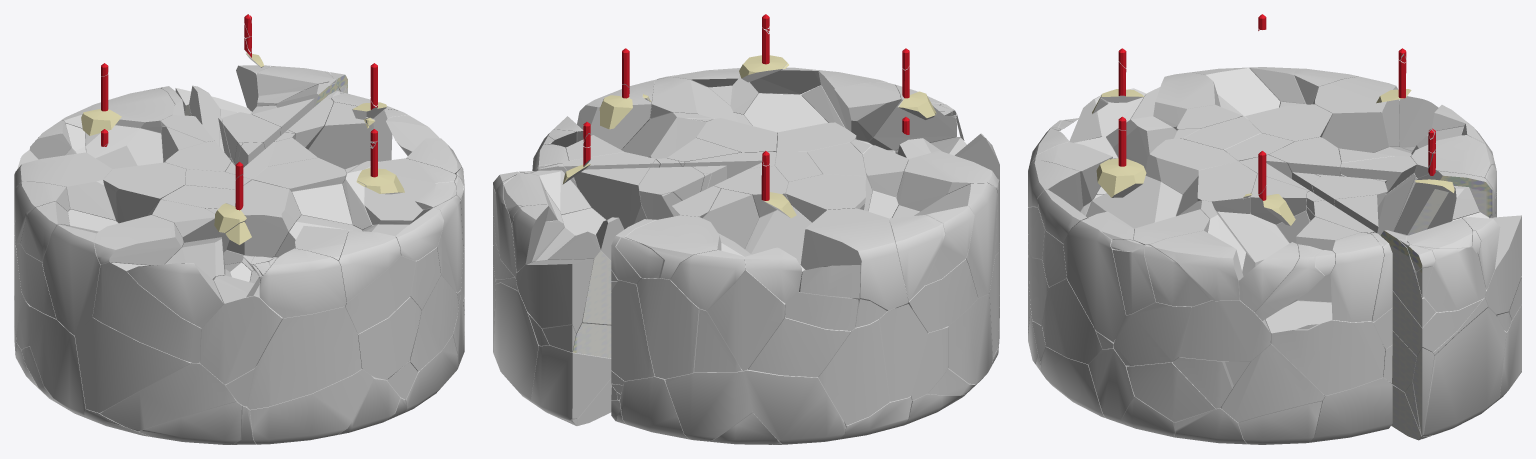
File: Cake.fbx
3 views of the same model, side by side, from view 1: azimuth 30°, elevation 25°; view 2: azimuth 150°, elevation 25°; view 3: azimuth 270°, elevation 25° (orthographic). The views are drawn at different scales.
Parts seen in each view (by area): view 1: Cylinder.001_cell.046, Cylinder.001_cell.245, Cylinder.001_cell.033, Cylinder.001_cell.086, Cylinder.001_cell.156, Cylinder.001_cell.232, Cylinder.001_cell.060, Cylinder.001_cell.082, Cylinder.001_cell.032, Cylinder.001_cell.145, Cylinder.001_cell.188, Cylinder.001_cell.048 (+59 smaller); view 2: Cylinder.001_cell.032, Cylinder.001_cell.268, Cylinder.001_cell.084, Cylinder.001_cell.138, Cylinder.001_cell.005, Cylinder.001_cell.059, Cylinder.001_cell.067, Cylinder.001_cell.185, Cylinder.001_cell.279, Cylinder.001_cell.024, Cylinder.001_cell.258, Cylinder.001_cell.232 (+67 smaller); view 3: Cylinder.001_cell.147, Cylinder.001_cell.024, Cylinder.001_cell.032, Cylinder.001_cell.169, Cylinder.001_cell.118, Cylinder.001_cell.019, Cylinder.001_cell.121, Cylinder.001_cell.128, Cylinder.001_cell.008, Cylinder.001_cell.085, Cylinder.001_cell.214, Cylinder.001_cell.049 (+65 smaller).
Part boxes in pixels (x1,y1,x2,y2): Cylinder.001_cell.046: (247,306,361,409); Cylinder.001_cell.245: (75,317,192,412); Cylinder.001_cell.033: (92,262,201,362); Cylinder.001_cell.086: (199,275,282,384); Cylinder.001_cell.156: (250,369,373,444); Cylinder.001_cell.232: (42,224,100,335); Cylinder.001_cell.060: (100,362,236,431); Cylinder.001_cell.082: (259,248,346,318); Cylinder.001_cell.032: (14,152,117,244); Cylinder.001_cell.145: (30,306,85,415); Cylinder.001_cell.188: (127,263,223,327); Cylinder.001_cell.048: (226,180,301,257); Cylinder.001_cell.032: (800,208,908,310); Cylinder.001_cell.268: (742,369,845,444); Cylinder.001_cell.084: (818,308,894,425); Cylinder.001_cell.138: (637,278,699,378); Cylinder.001_cell.005: (665,369,752,441); Cylinder.001_cell.059: (706,258,785,370); Cylinder.001_cell.067: (531,345,611,421); Cylinder.001_cell.185: (515,259,593,333); Cylinder.001_cell.279: (748,314,850,377); Cylinder.001_cell.024: (493,283,538,404); Cylinder.001_cell.258: (896,150,998,211); Cylinder.001_cell.232: (914,183,997,297); Cylinder.001_cell.147: (1265,299,1385,395); Cylinder.001_cell.024: (1405,307,1506,436); Cylinder.001_cell.032: (1312,76,1399,152); Cylinder.001_cell.169: (1063,218,1126,342); Cylinder.001_cell.118: (1179,300,1270,361); Cylinder.001_cell.019: (1220,344,1324,422); Cylinder.001_cell.121: (1330,232,1383,322); Cylinder.001_cell.128: (1150,230,1243,300); Cylinder.001_cell.008: (1113,302,1192,365); Cylinder.001_cell.085: (1309,377,1392,442); Cylinder.001_cell.214: (1042,278,1101,364); Cylinder.001_cell.049: (1410,244,1486,312).
Size of the model in its own units: 200 by 127 by 211.
